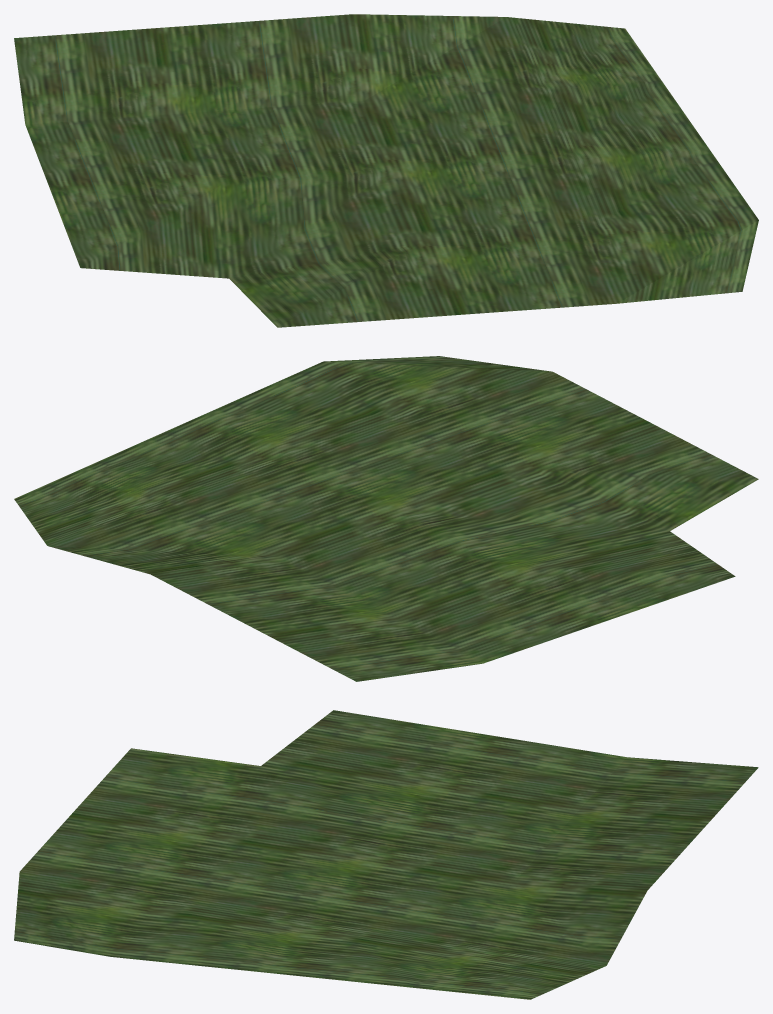
File: Island_3_GreenStrips.gltf
3 views of the same model, one above another, from view 1: azimuth 30°, elevation 25°; view 2: azimuth 150°, elevation 25°; view 3: azimuth 270°, elevation 25° (orthographic). The views are drawn at different scales.
Parts seen in each view (by area): view 1: Island_3_GreenStrips; view 2: Island_3_GreenStrips; view 3: Island_3_GreenStrips.
Boxes of the visible parts, box(x1,y1,x2,y2) form: Island_3_GreenStrips: box(14, 14, 758, 327); Island_3_GreenStrips: box(14, 356, 758, 681); Island_3_GreenStrips: box(14, 710, 758, 999).
Bounding box in the file's own units: 139 × 6.94 × 150.
Materials: 1 (1 with a texture image).
